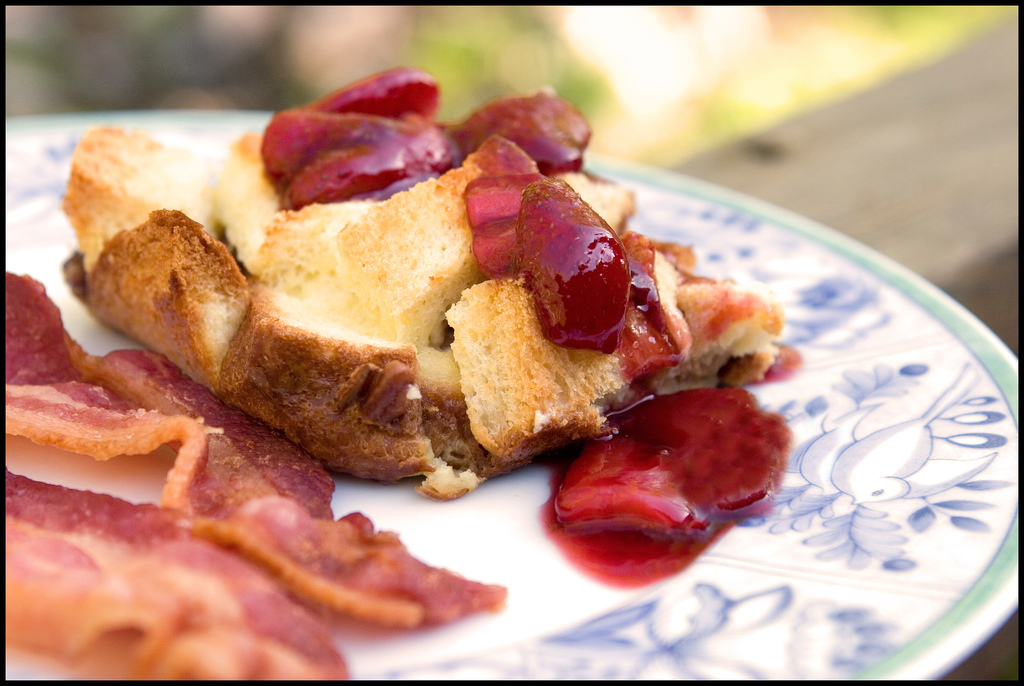slice of bread: (55, 125, 814, 487)
